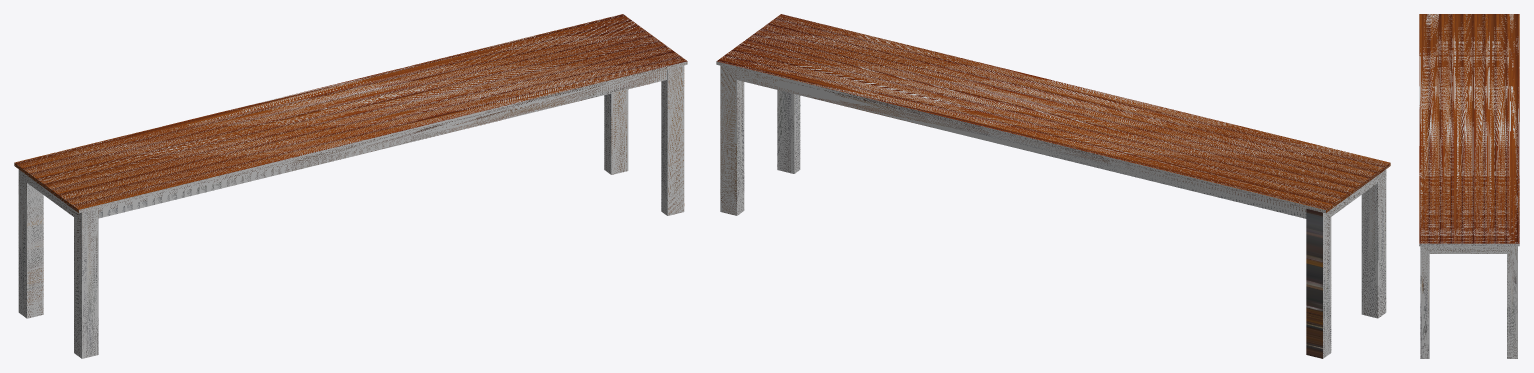
3 renders of one model, left to right at view 1: azimuth 30°, elevation 25°; view 2: azimuth 150°, elevation 25°; view 3: azimuth 270°, elevation 25°, orthographic. The views are drawn at different scales.
Parts seen in each view (by area): view 1: mesh1_mesh1-geometry; view 2: mesh1_mesh1-geometry; view 3: mesh1_mesh1-geometry.
Boxes of the visible parts, box(x1,y1,x2,y2) form: mesh1_mesh1-geometry: box(14, 14, 687, 358); mesh1_mesh1-geometry: box(716, 14, 1390, 358); mesh1_mesh1-geometry: box(1419, 14, 1519, 358).
Size of the model in its own units: 0.958 by 0.2261 by 0.1763.
